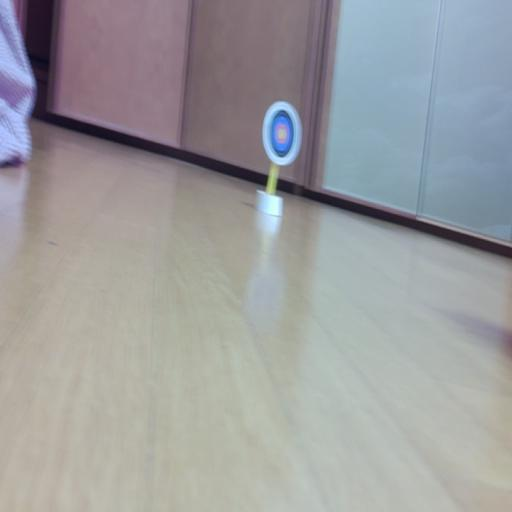target: (262, 101, 302, 166)
